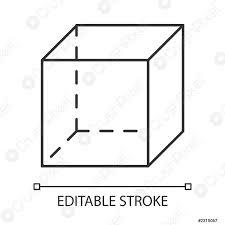cubos: (34, 17, 192, 172)
